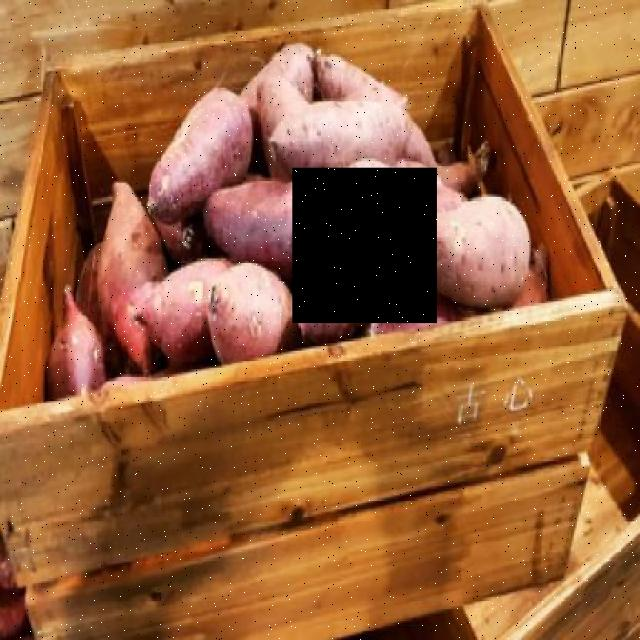Sweet_Potato: (293, 168, 437, 323)
